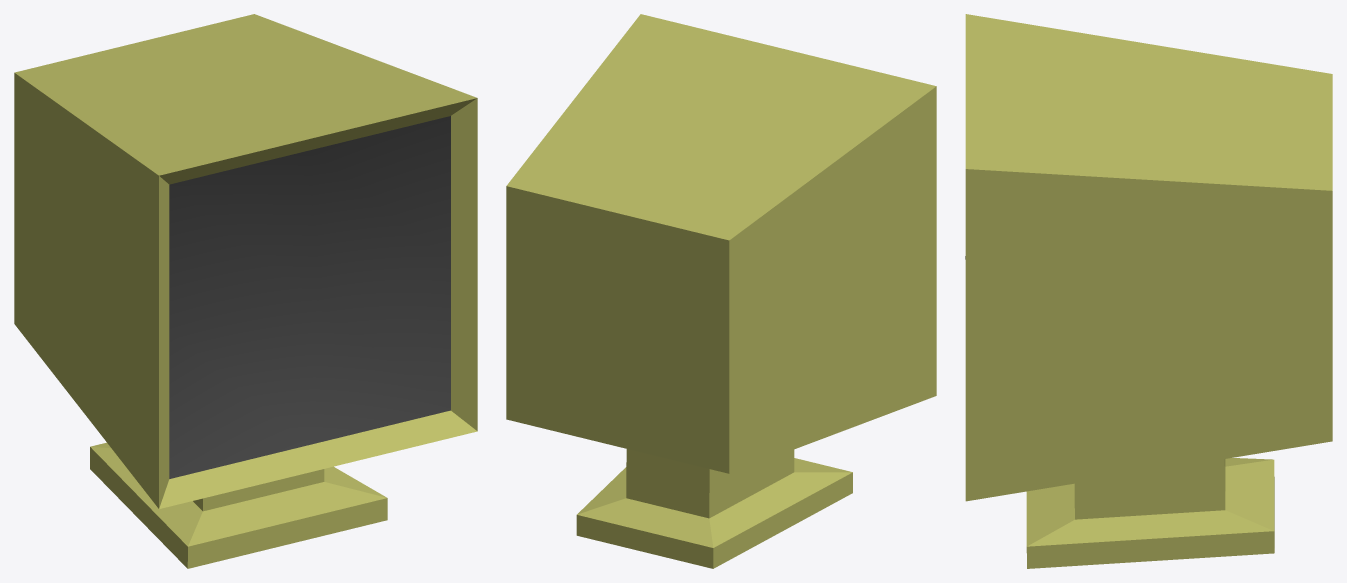
Rendered from yk_computer 1.fbx.
3 views of the same model, side by side, from view 1: azimuth 30°, elevation 25°; view 2: azimuth 150°, elevation 25°; view 3: azimuth 270°, elevation 25° (orthographic). The views are drawn at different scales.
Visible parts, largest first — view 1: Cube.001; view 2: Cube.001; view 3: Cube.001.
Boxes of the visible parts, box(x1,y1,x2,y2) form: Cube.001: box(14, 14, 477, 568); Cube.001: box(506, 14, 936, 568); Cube.001: box(965, 14, 1332, 568).
Bounding box in the file's own units: 124 × 160 × 124.
